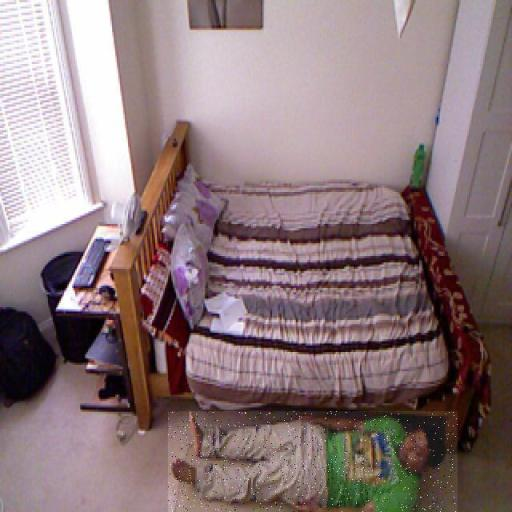Fall: (168, 411, 458, 512)
